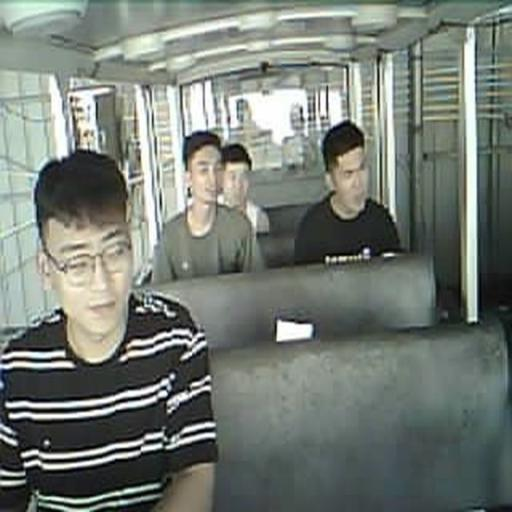persona: (0, 148, 219, 511), (150, 130, 264, 284), (293, 119, 403, 265), (218, 142, 270, 238)
